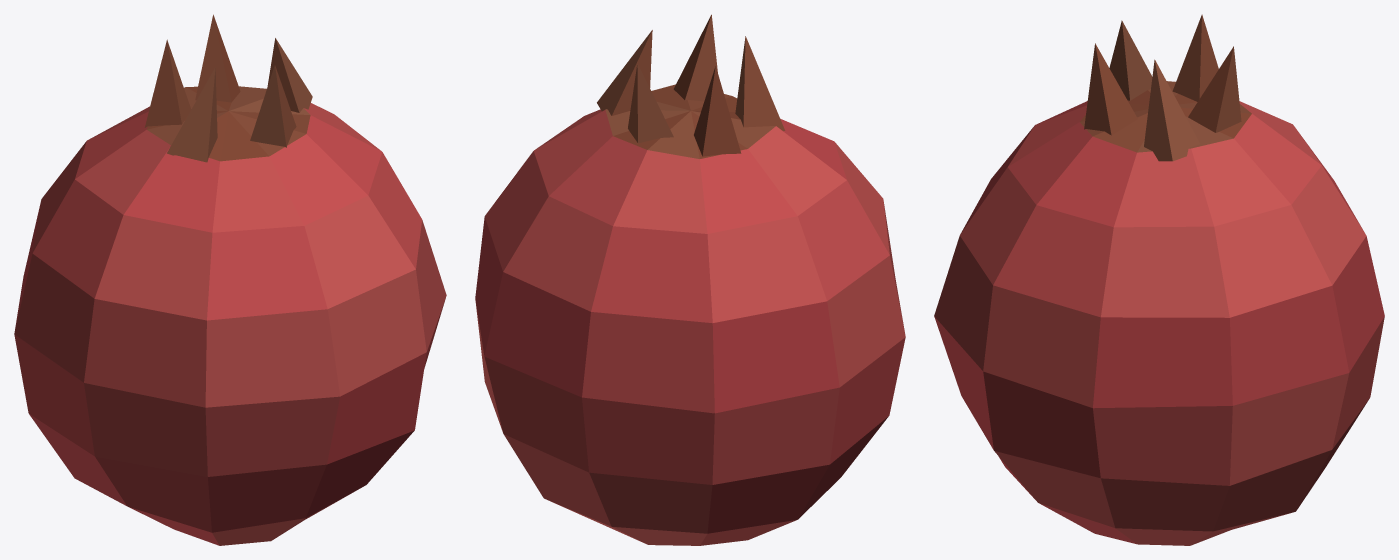
File: Pomegranate.glb
The picture shows the model from 3 angles, left to right: view 1: azimuth 30°, elevation 25°; view 2: azimuth 150°, elevation 25°; view 3: azimuth 270°, elevation 25°; orthographic projection. The views are drawn at different scales.
Visible parts, largest first — view 1: Pomegranate; view 2: Pomegranate; view 3: Pomegranate.
Part boxes in pixels (x1=…): Pomegranate: x1=14, y1=14, x2=446, y2=545; Pomegranate: x1=475, y1=14, x2=905, y2=545; Pomegranate: x1=934, y1=14, x2=1384, y2=545.
Bounding box in the file's own units: 0.3457 × 0.44 × 0.3603.
